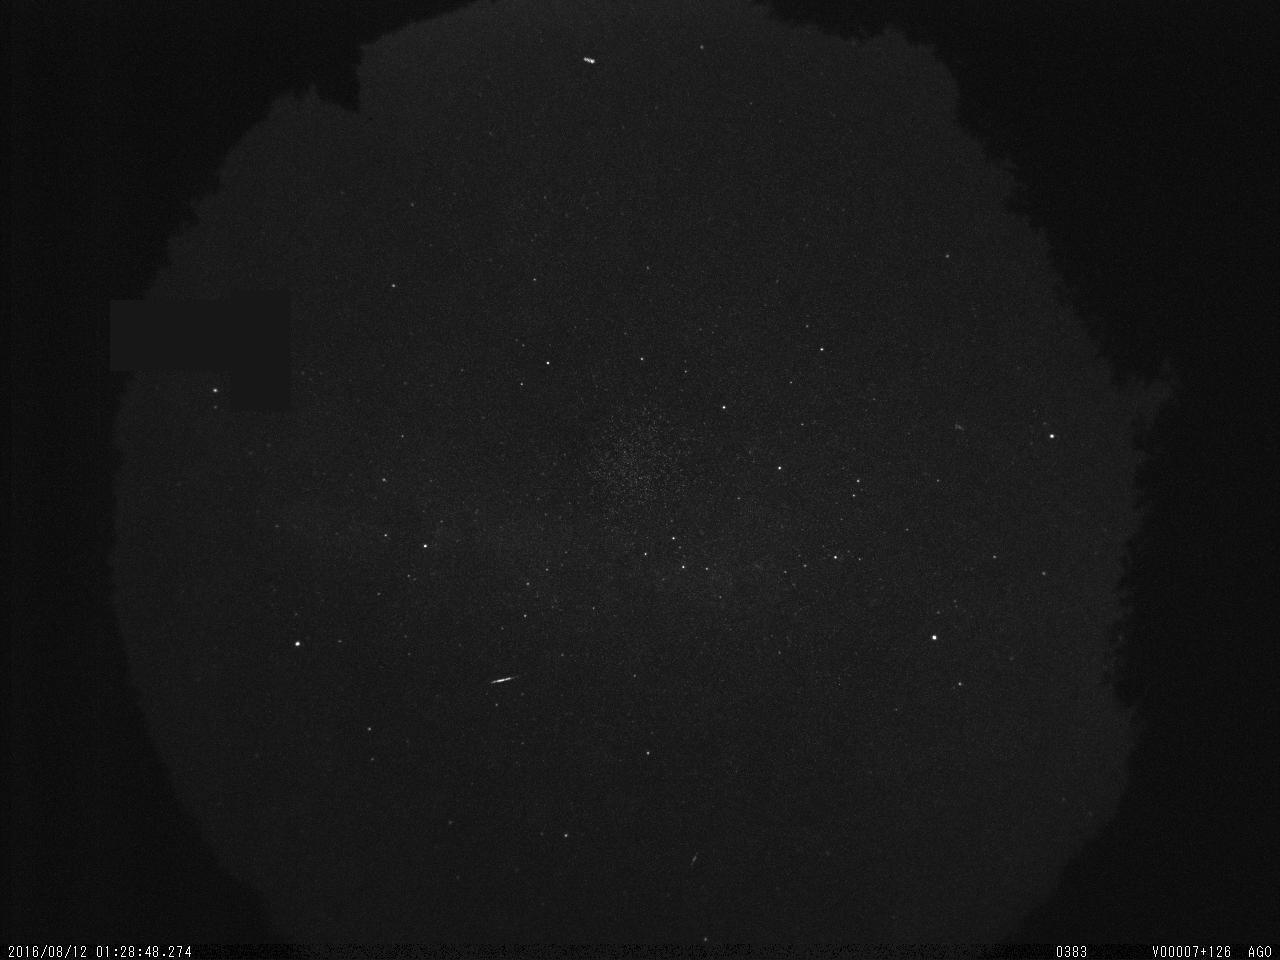Meteor: (487, 672, 519, 685)
